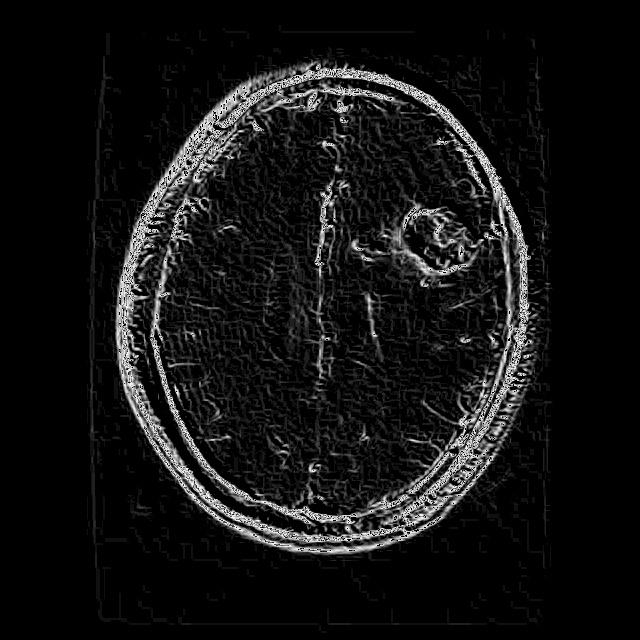Brain-Tumor: (386, 190, 492, 288)
